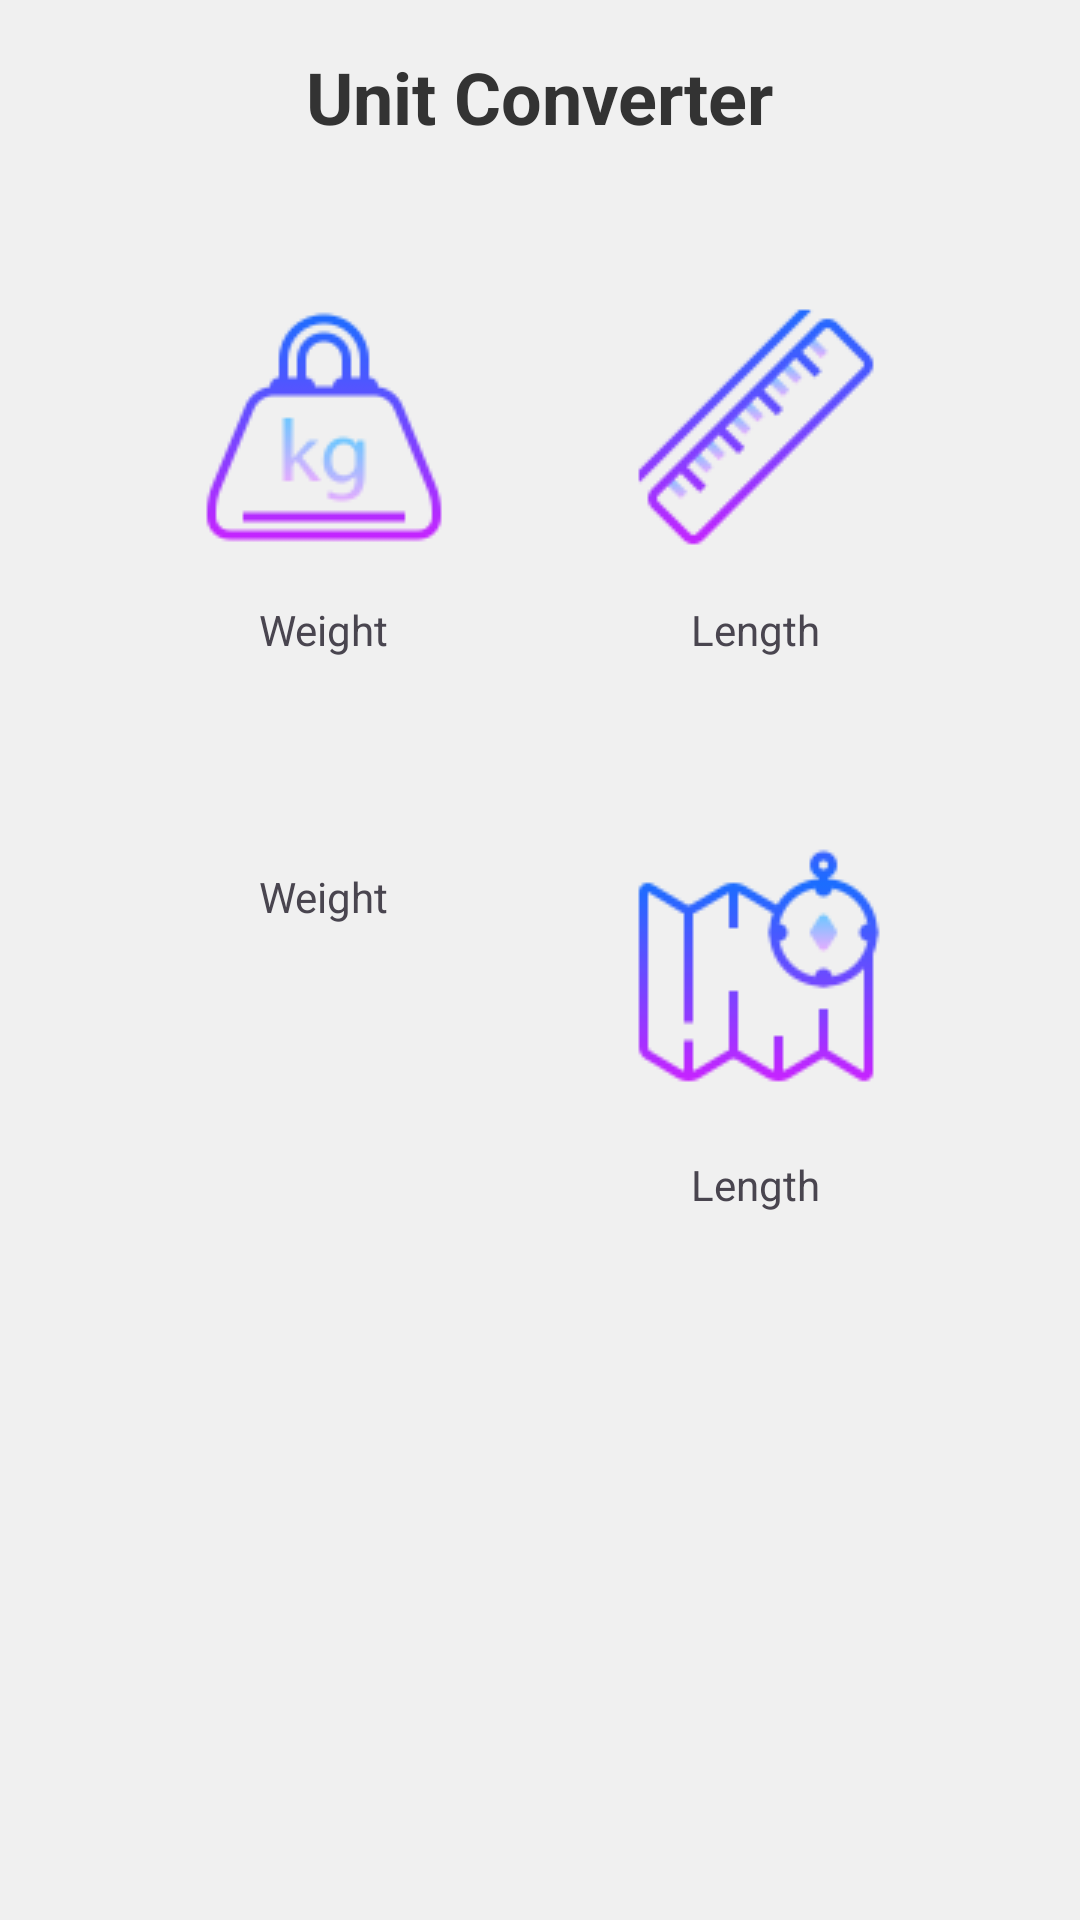

Where to tap for icons on this 1080px x 1920px app screen, as [x,y]:
area: [759,965]
